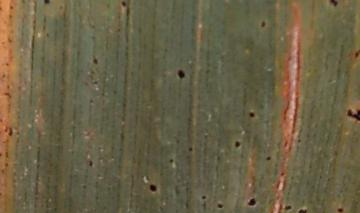tarspot: (346, 107, 360, 122), (148, 183, 158, 193), (247, 197, 257, 207), (177, 68, 185, 80), (353, 49, 360, 61), (248, 110, 256, 120), (278, 169, 286, 178), (92, 56, 99, 66), (87, 158, 94, 168), (329, 1, 339, 8), (7, 127, 14, 136), (234, 141, 241, 149), (265, 154, 272, 162), (296, 208, 307, 213), (187, 146, 194, 153), (285, 204, 292, 211), (216, 203, 224, 209), (121, 1, 127, 8), (260, 21, 266, 28), (337, 207, 344, 213), (43, 1, 51, 6), (201, 194, 207, 200), (297, 137, 302, 144), (46, 31, 51, 38), (169, 158, 174, 164)
